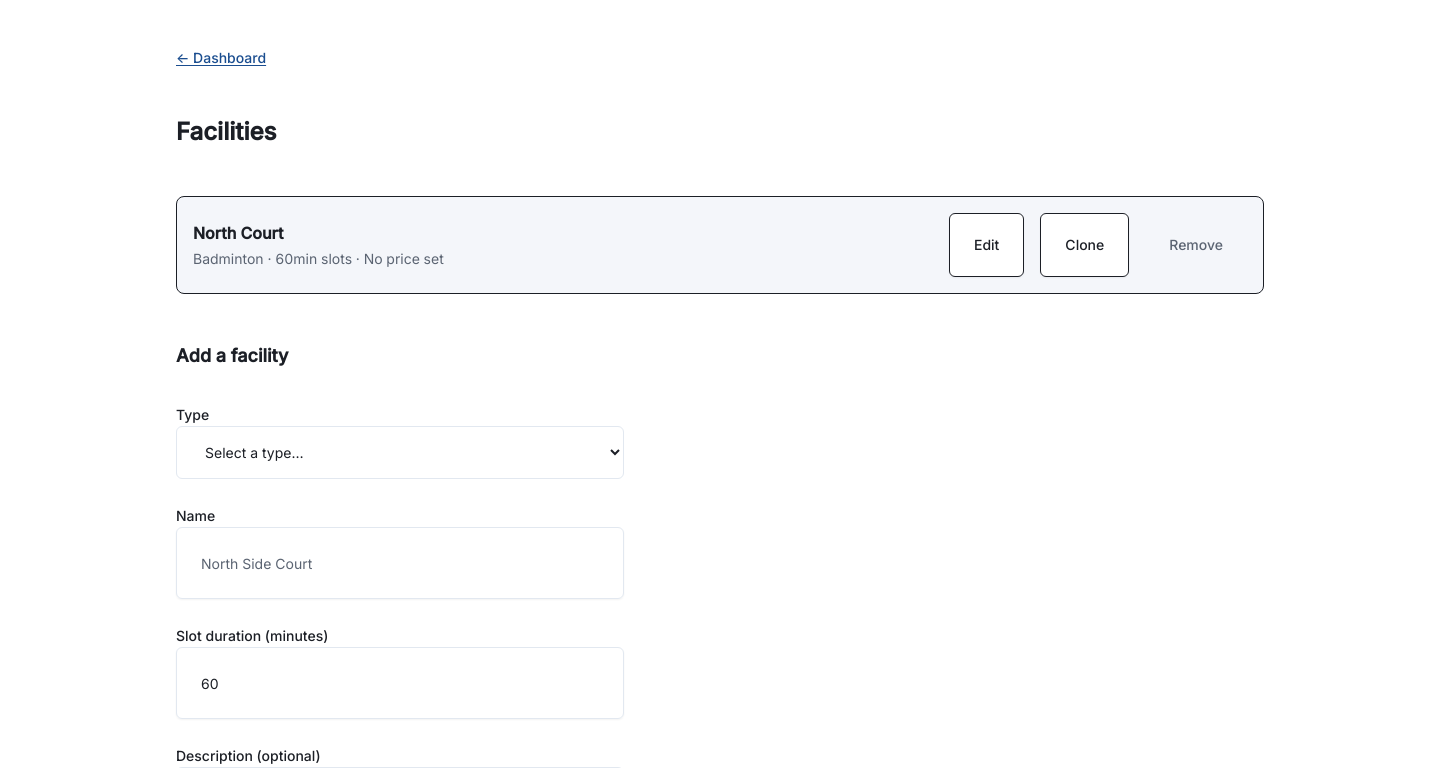
Test: TenantFacilities › edit dialog opens pre-filled with the facility's real schedule, not the default
Click the button "Edit".
click(987, 245)  # box [949,213,1024,277]
(page scrolled)
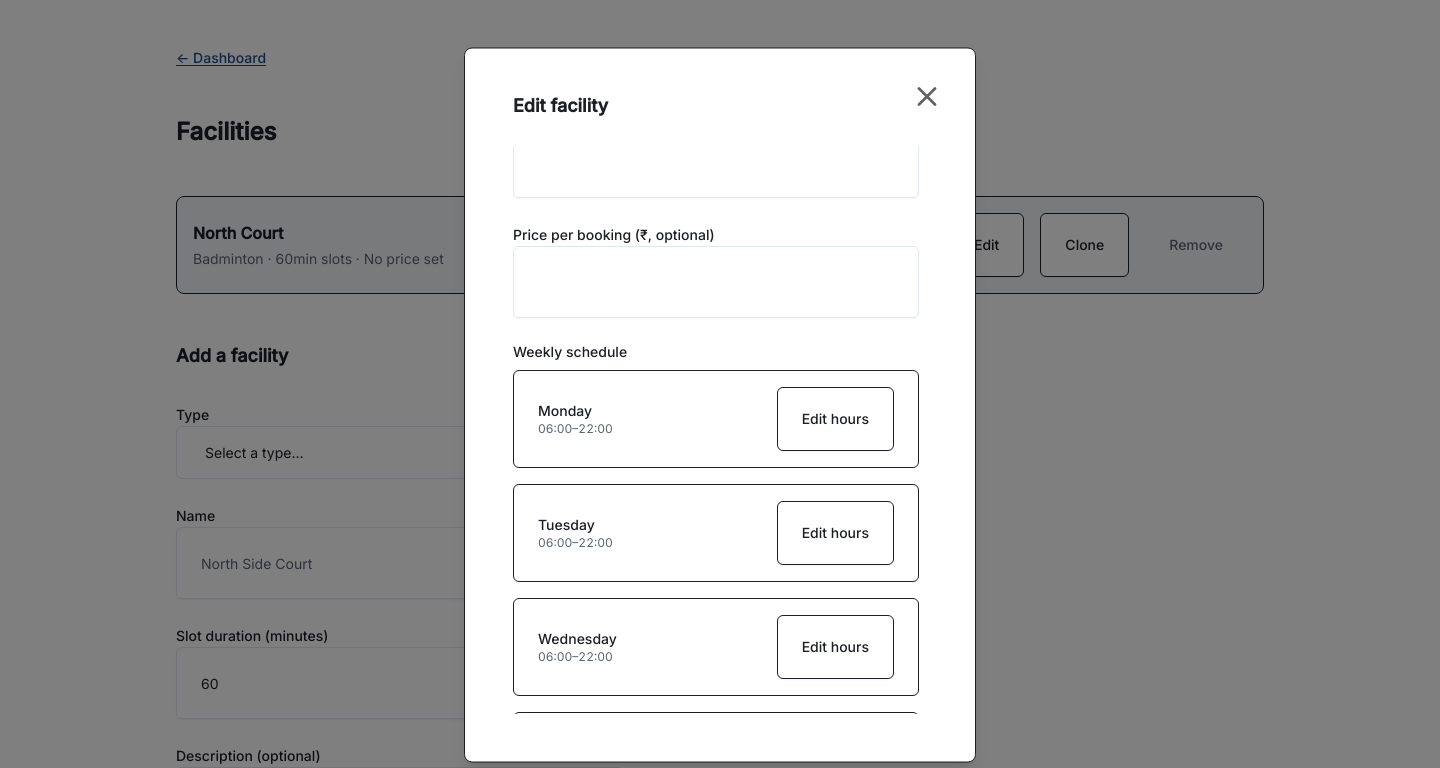
Expected: the 1st text "06:00–22:00" is shown, [538,422,613,438]
